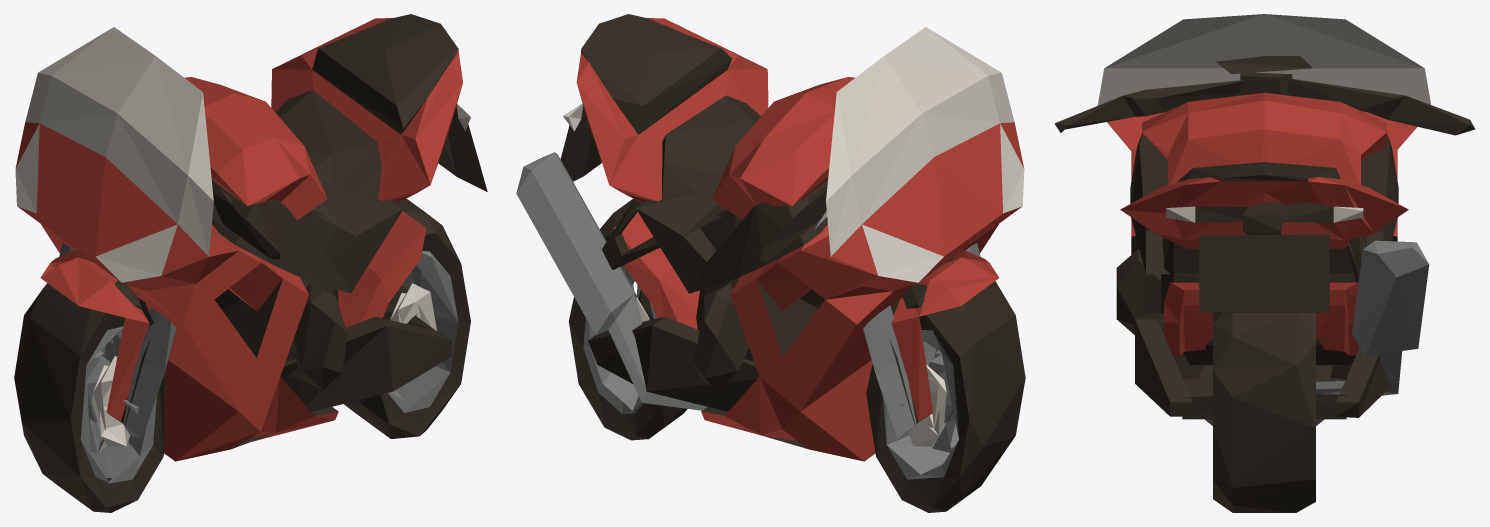
The model's file is motorbike.glb.
The picture shows the model from 3 angles, left to right: view 1: azimuth 30°, elevation 25°; view 2: azimuth 150°, elevation 25°; view 3: azimuth 270°, elevation 25°; orthographic projection. The views are drawn at different scales.
Bounding box in the file's own units: 0.9878 × 0.9816 × 0.9575.
